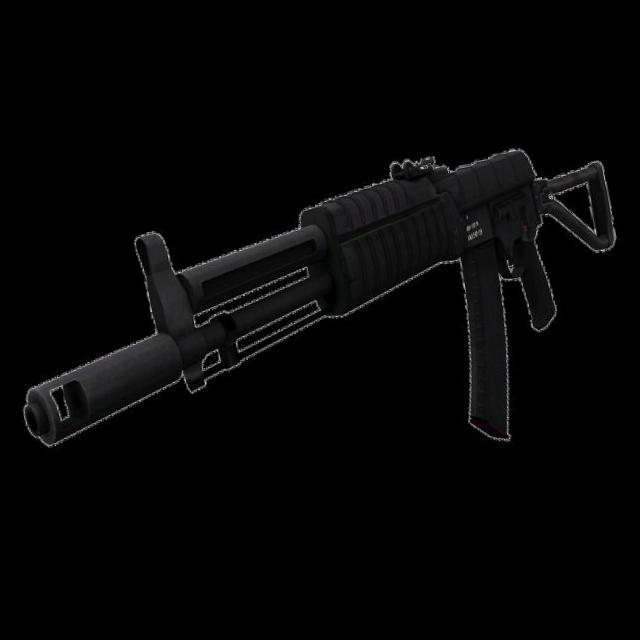Gun: (23, 149, 615, 445)
